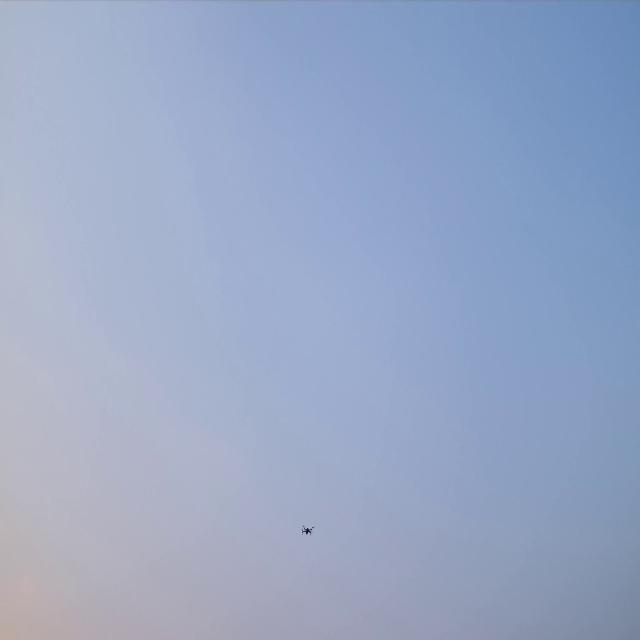UAV: (300, 522, 316, 538)
